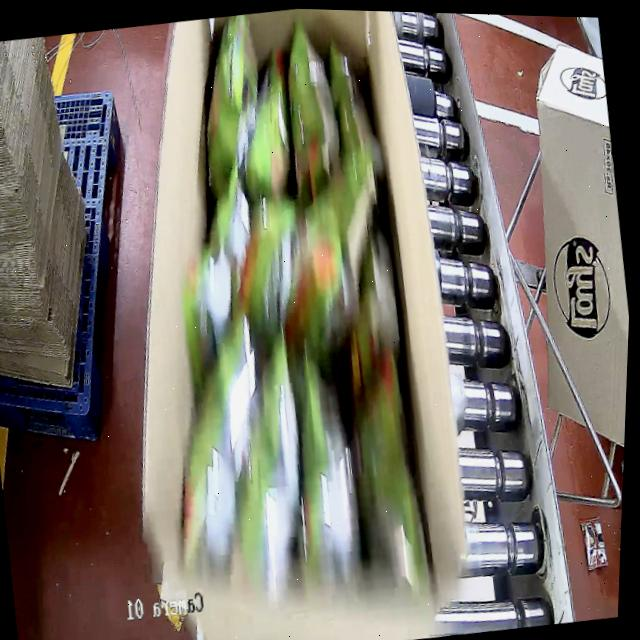YOGURT_HERB: (109, 4, 455, 639)
